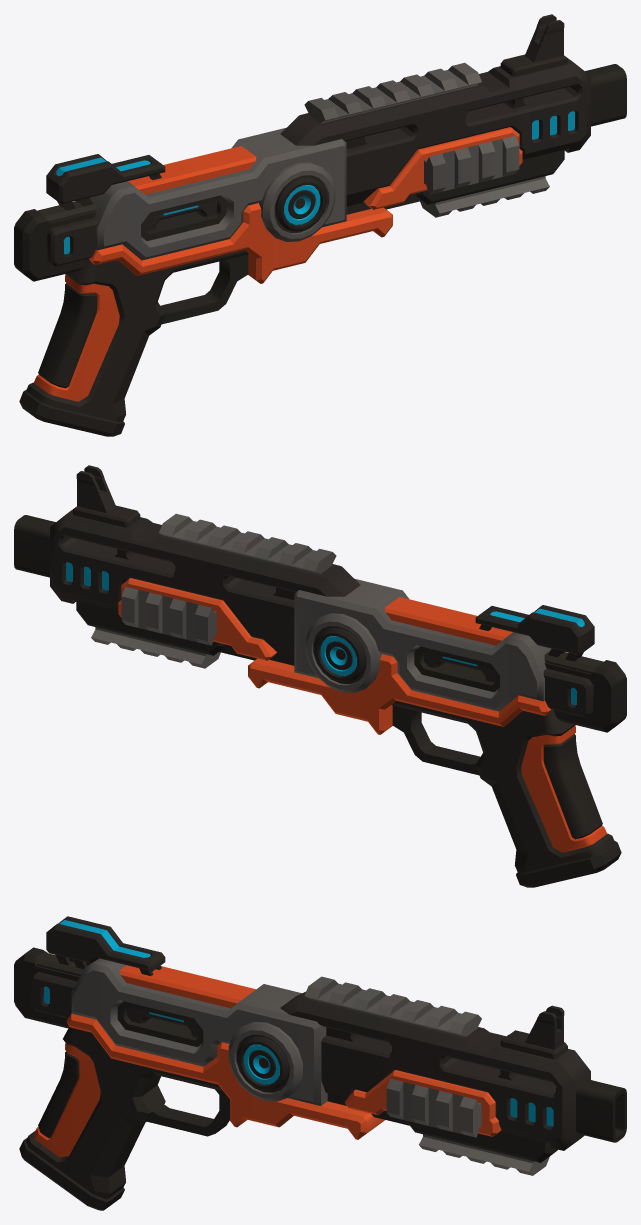
Rendered from SMG12_Base.fbx.
3 views of the same model, one above another, from view 1: azimuth 30°, elevation 25°; view 2: azimuth 150°, elevation 25°; view 3: azimuth 330°, elevation 25° (orthographic).
Parts seen in each view (by area): view 1: SMG12_Base; view 2: SMG12_Base; view 3: SMG12_Base.
Part boxes in pixels (box(x1,y1,x2,y2)): SMG12_Base: box(14, 14, 626, 436); SMG12_Base: box(14, 465, 626, 887); SMG12_Base: box(14, 916, 626, 1210).
Size of the model in its own units: 42.93 by 20.71 by 5.74.
